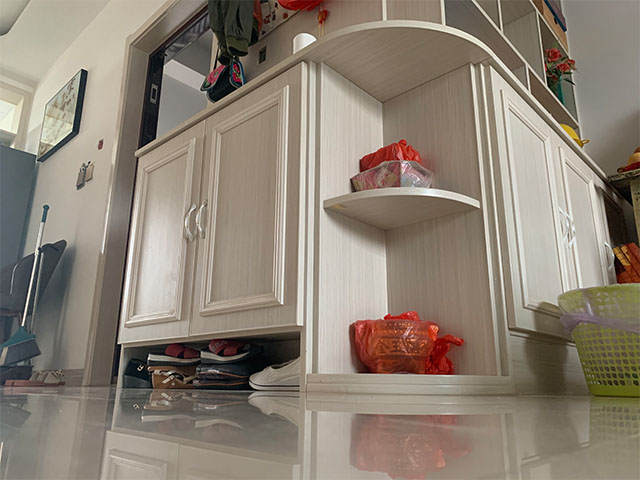cabinet: (112, 30, 496, 397), (490, 55, 615, 394)
slippers: (3, 367, 68, 389)
trashcan: (557, 283, 640, 398)
